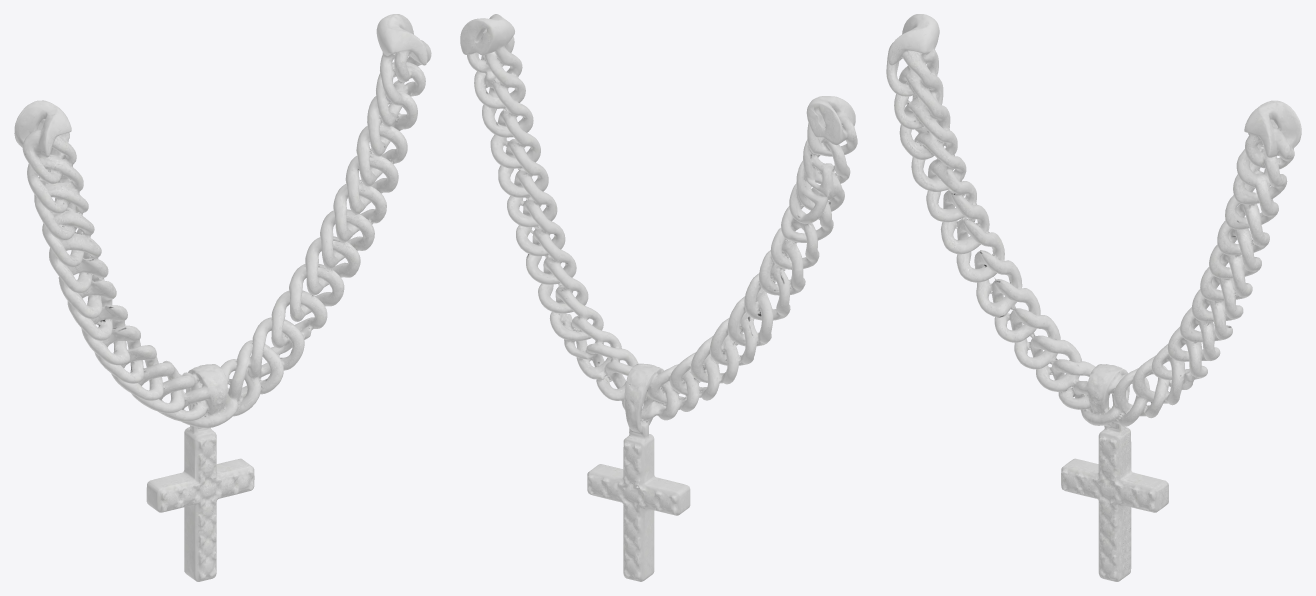
Rendered from necklace.glb.
The picture shows the model from 3 angles, left to right: view 1: azimuth 30°, elevation 25°; view 2: azimuth 150°, elevation 25°; view 3: azimuth 330°, elevation 25°; orthographic projection. The views are drawn at different scales.
Visible parts, largest first — view 1: Mesh_0; view 2: Mesh_0; view 3: Mesh_0.
Boxes of the visible parts, x1,y1,x2,y2 form: Mesh_0: (14,14,431,581); Mesh_0: (460,14,857,581); Mesh_0: (886,14,1301,581).
Size of the model in its own units: 1.52 by 1.9 by 0.2921.
1 material, 1 textured.
